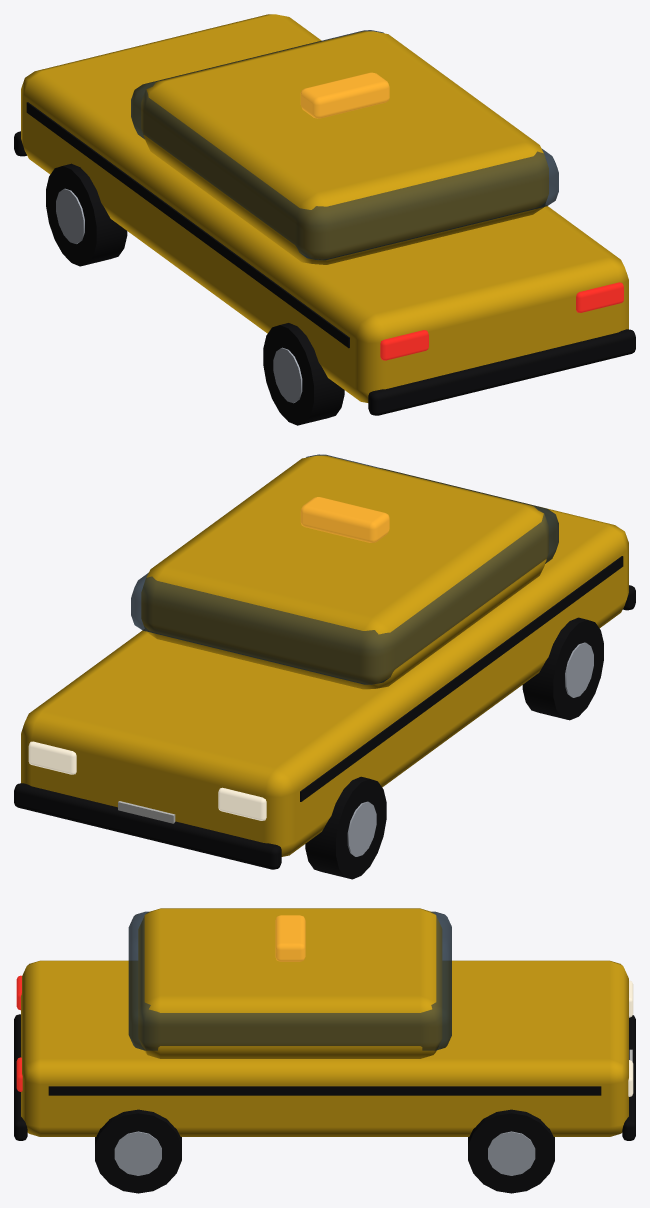
Rendered from obstacle_traffic.glb.
The picture shows the model from 3 angles, top to bottom: view 1: azimuth 30°, elevation 25°; view 2: azimuth 150°, elevation 25°; view 3: azimuth 270°, elevation 25°; orthographic projection. The views are drawn at different scales.
Parts seen in each view (by area): view 1: Taxi; view 2: Taxi; view 3: Taxi.
Boxes of the visible parts, left/top/right/bottom form: Taxi: left=14, top=14, right=635, bottom=425; Taxi: left=14, top=454, right=635, bottom=879; Taxi: left=14, top=908, right=635, bottom=1193.
Bounding box in the file's own units: 2.1 × 1.62 × 4.5.
